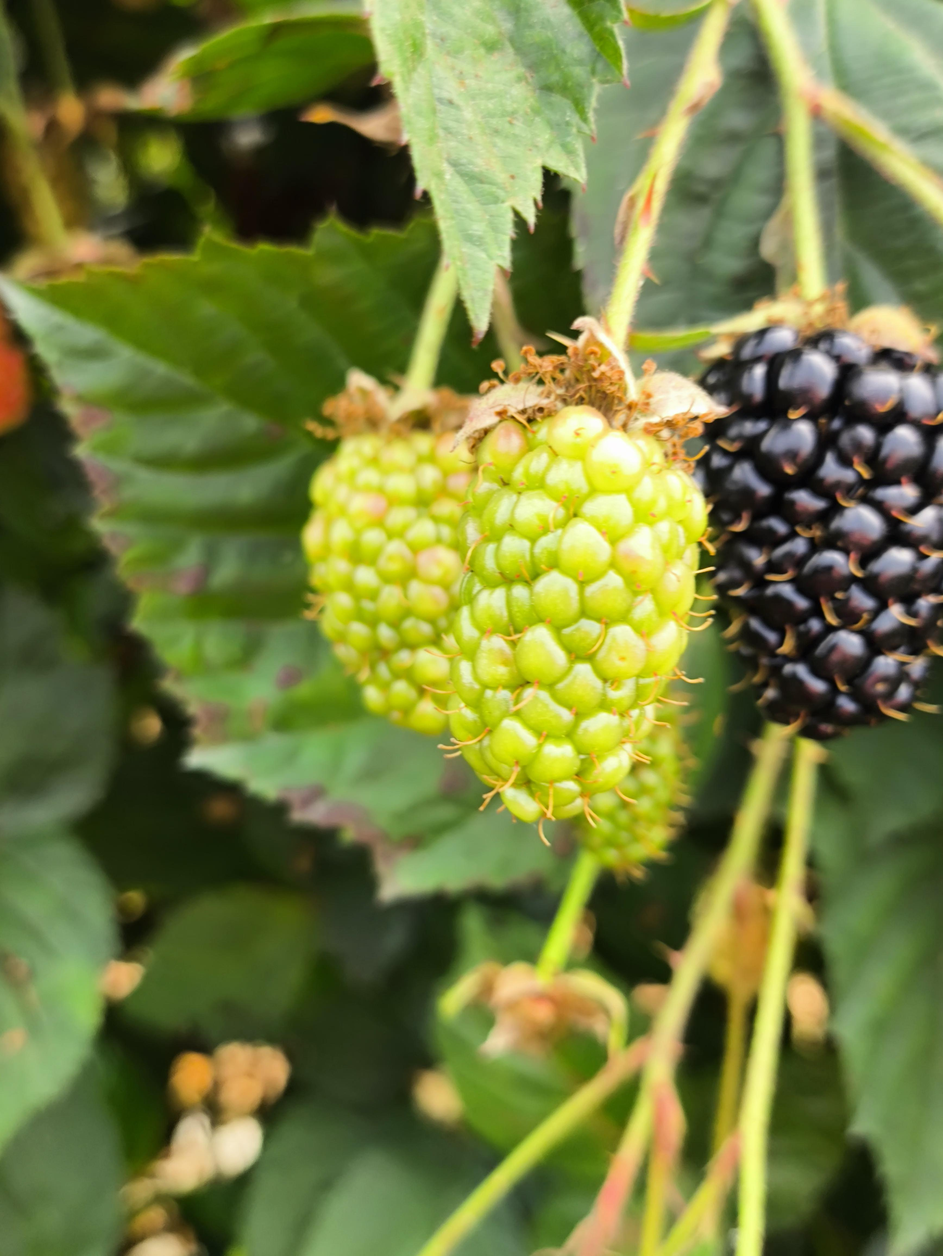maduro: (701, 326, 943, 740)
verde: (440, 346, 706, 831), (304, 428, 470, 734)
